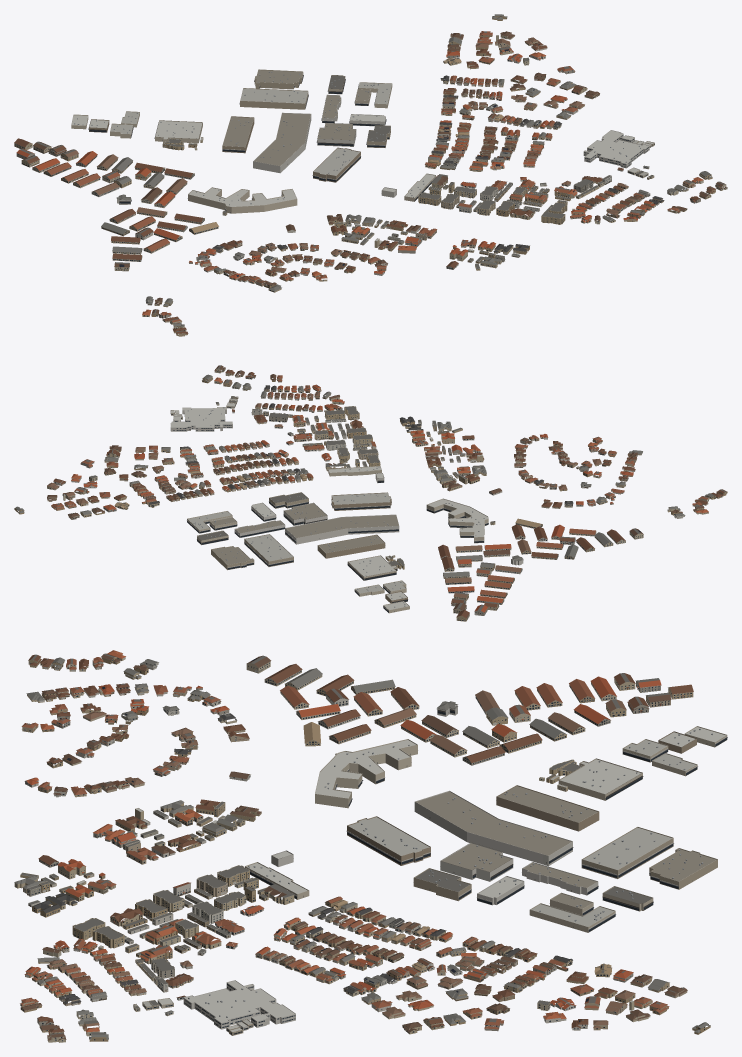
The picture shows the model from 3 angles, top to bottom: view 1: azimuth 30°, elevation 25°; view 2: azimuth 150°, elevation 25°; view 3: azimuth 270°, elevation 25°; orthographic projection. The views are drawn at different scales.
Parts seen in each view (by area): view 1: buildings_r5_c6_lod0; view 2: buildings_r5_c6_lod0; view 3: buildings_r5_c6_lod0.
Boxes of the visible parts, <box> form: buildings_r5_c6_lod0: <box>14,14,727,336</box>; buildings_r5_c6_lod0: <box>14,365,727,621</box>; buildings_r5_c6_lod0: <box>14,650,727,1042</box>.
Size of the model in its own units: 1085 by 55.49 by 814.
